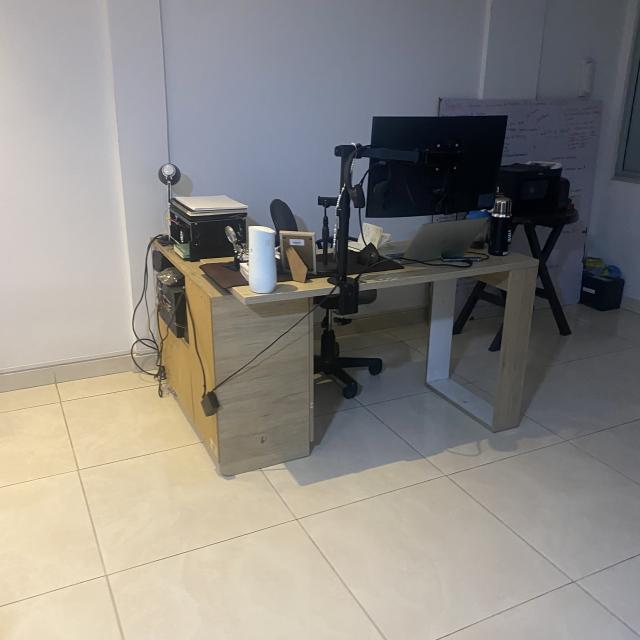obstacle: (124, 111, 572, 484)
